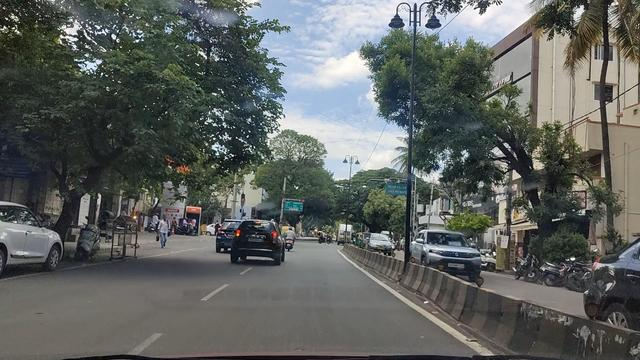LMV: (233, 215, 285, 265)
